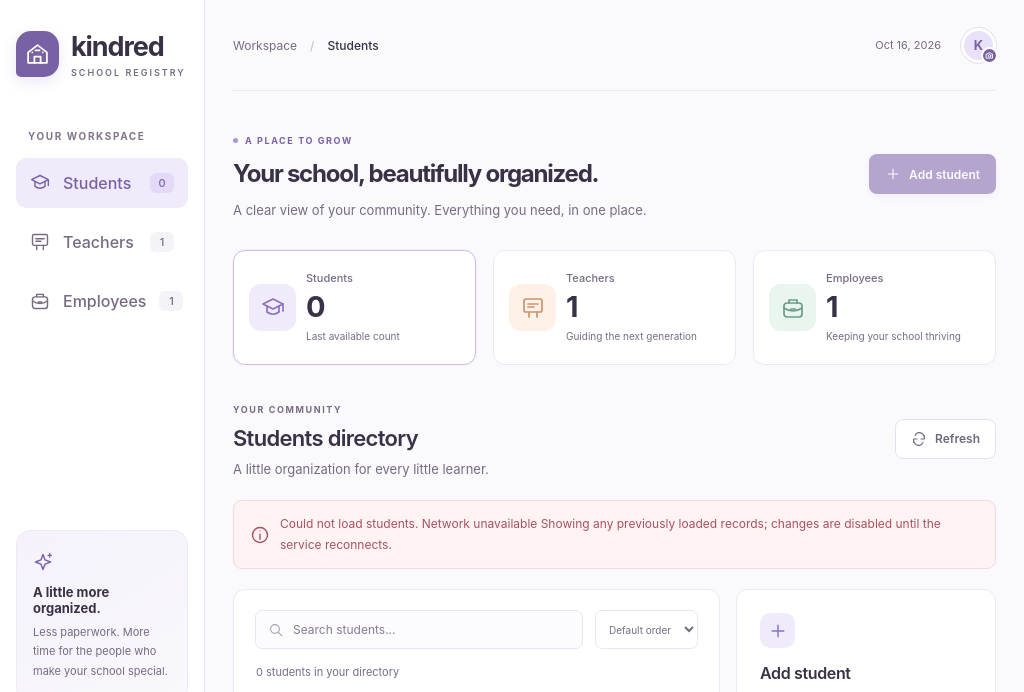
shows a service error, disables changes, and recovers on refresh
Expected: the message shows "Could not load students", [280, 516, 537, 531]
Expected: the button with aria-label "View teachers: 1 records" is enabled, [493, 250, 736, 365]
What coordinates should you click on to do the following:
click the button "Refresh"
I would click on:
 (946, 439)
Its box is [895, 419, 996, 459].
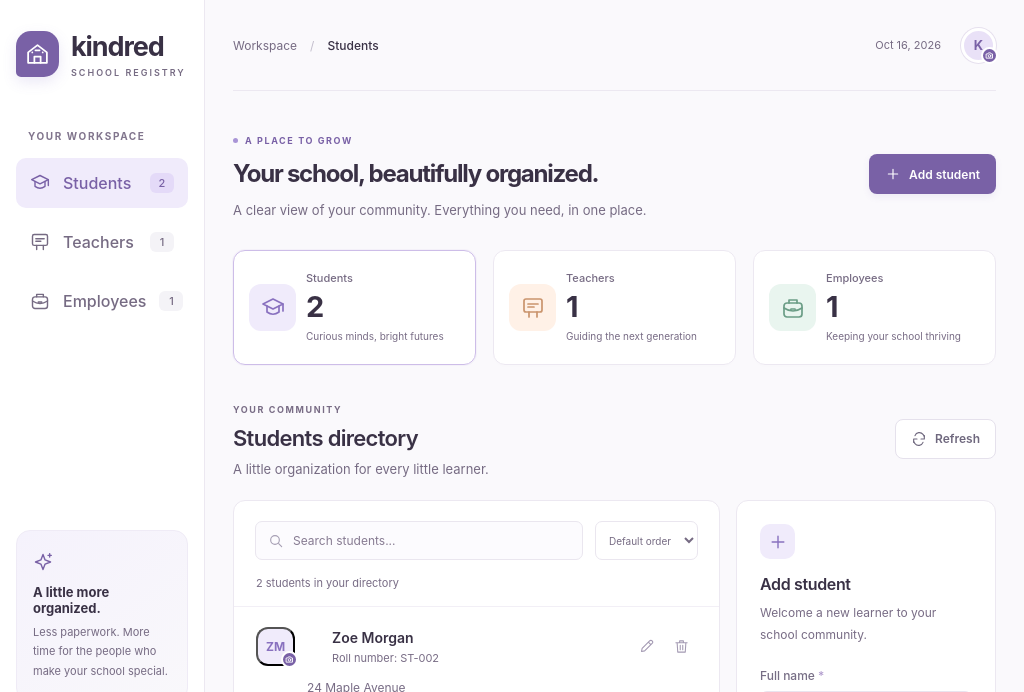
Now the text "Zoe Morgan" is shown, box [332, 629, 414, 646]
Now the message is gone
